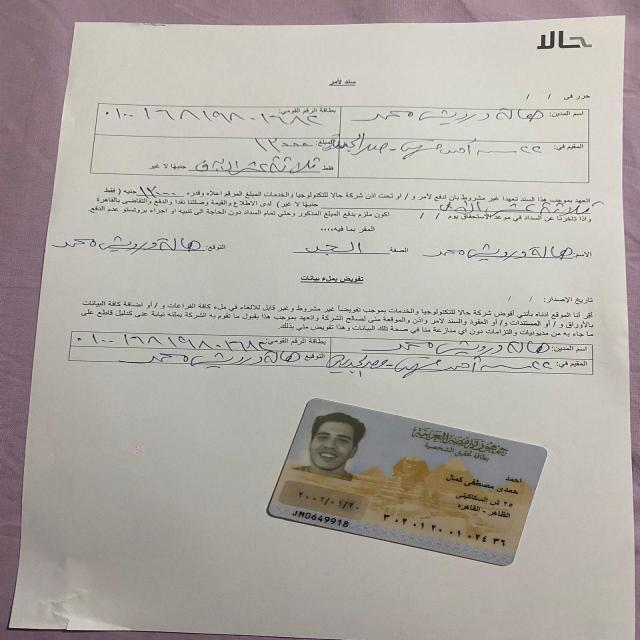ID-cards: (251, 395, 556, 571)
